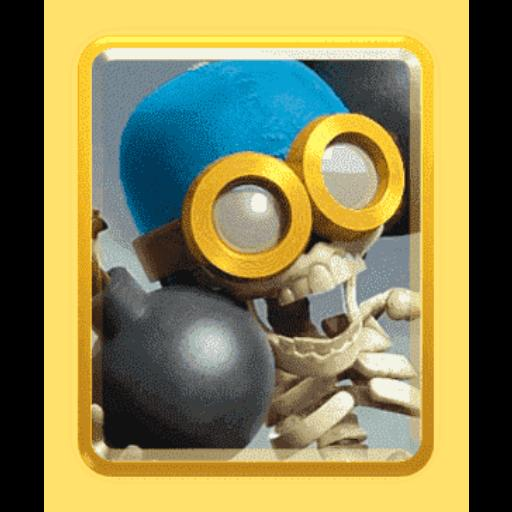bomber: (91, 61, 415, 459)
